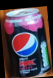pepsi: (5, 8, 52, 78)
